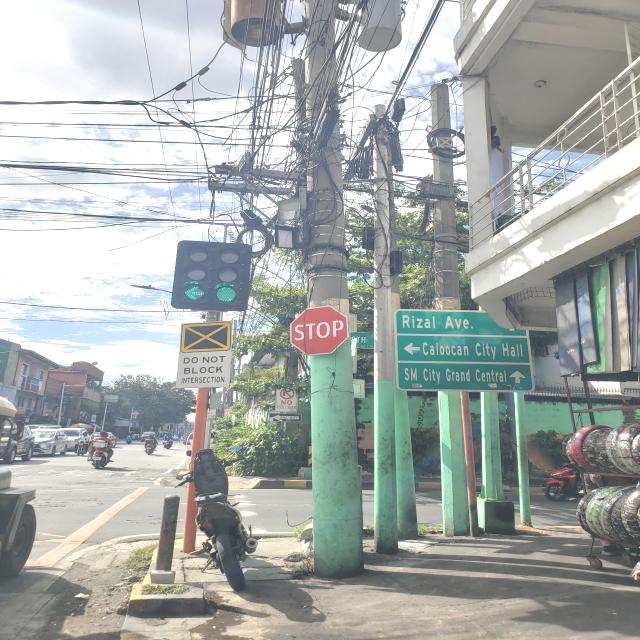stop-sign: (290, 305, 350, 356)
